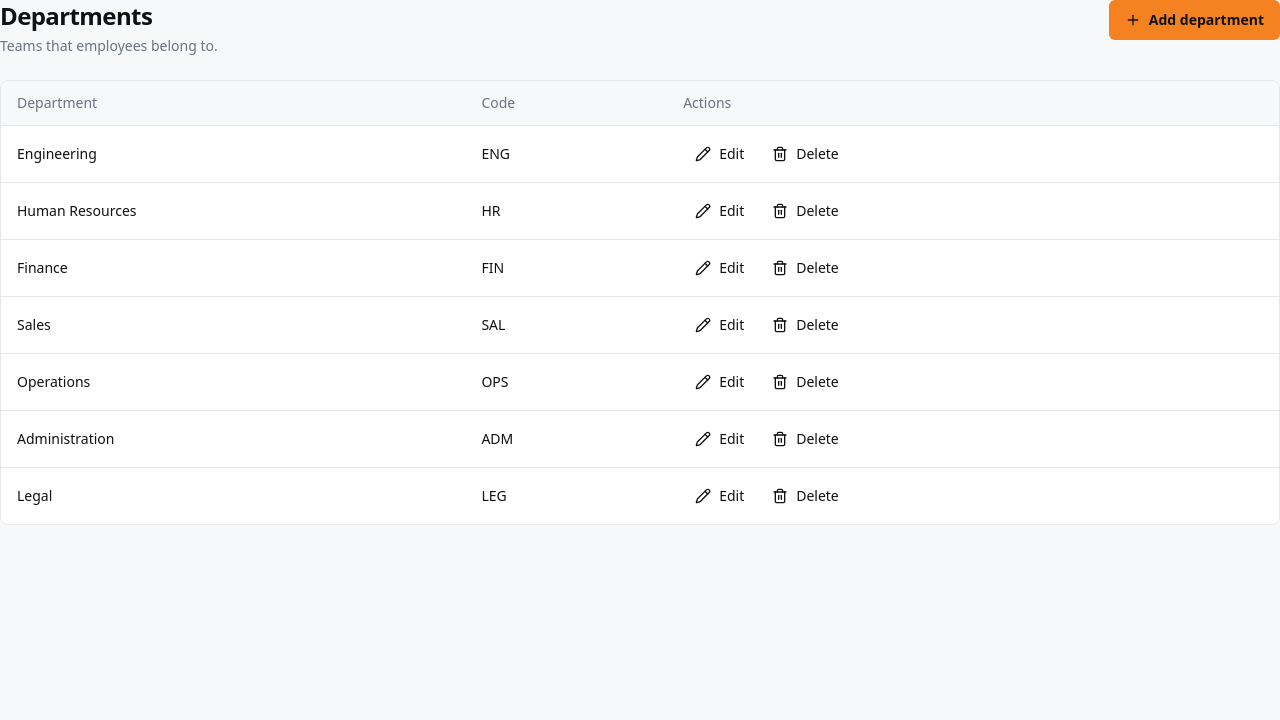
Scenario: CrudPage › explains why a department in use cannot be deleted
The image size is (1280, 720).
Expected: the text "Engineering" is shown, [1,126,465,182]
Click the button with aria-label "Delete Engineering": (806, 154) [760,138,851,170]
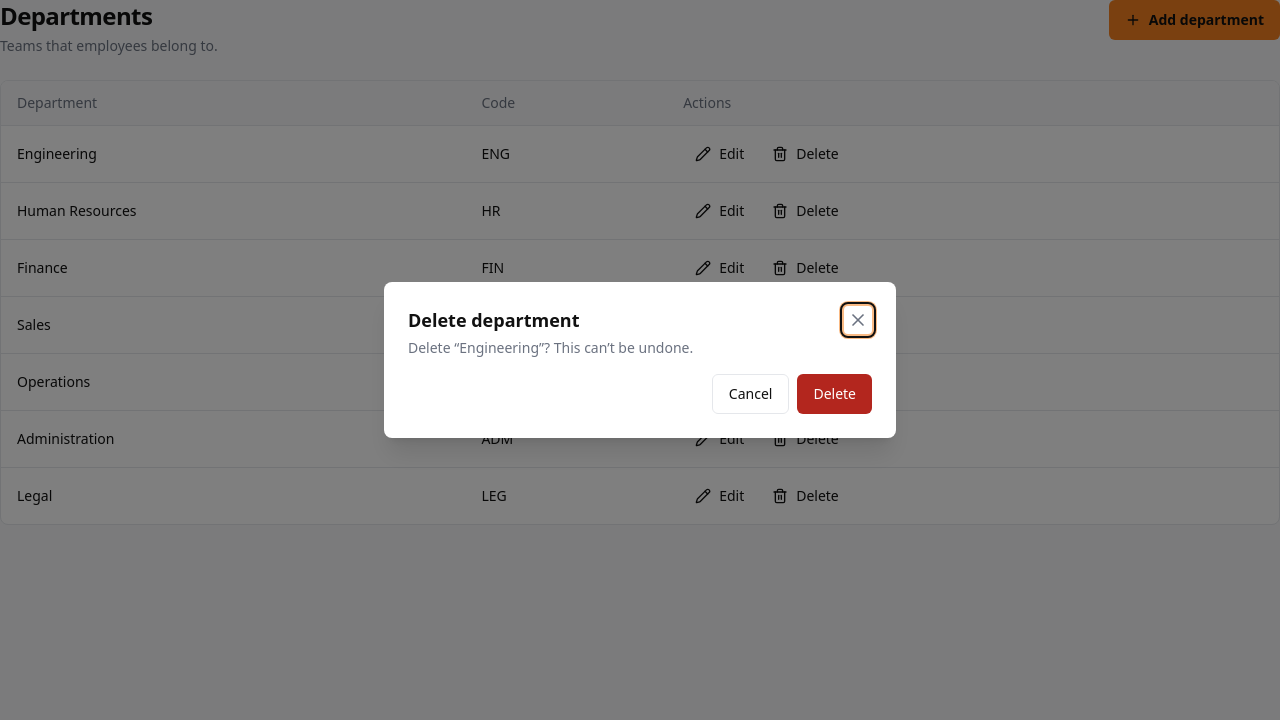
Click the button "Delete": (835, 394) [797,374,872,414]
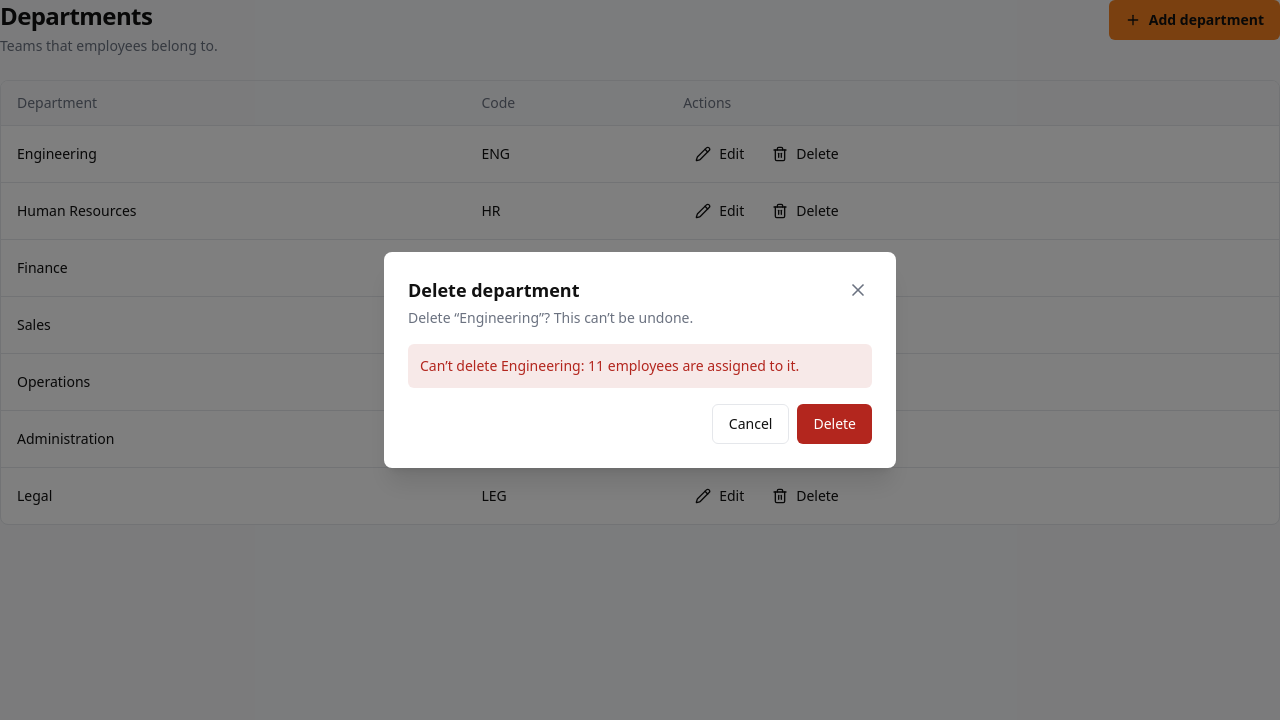
Expected: the text "Engineering" is shown, [1,126,465,182]
Now the message shows "employees are assigned to it", box [420,356,799,375]
